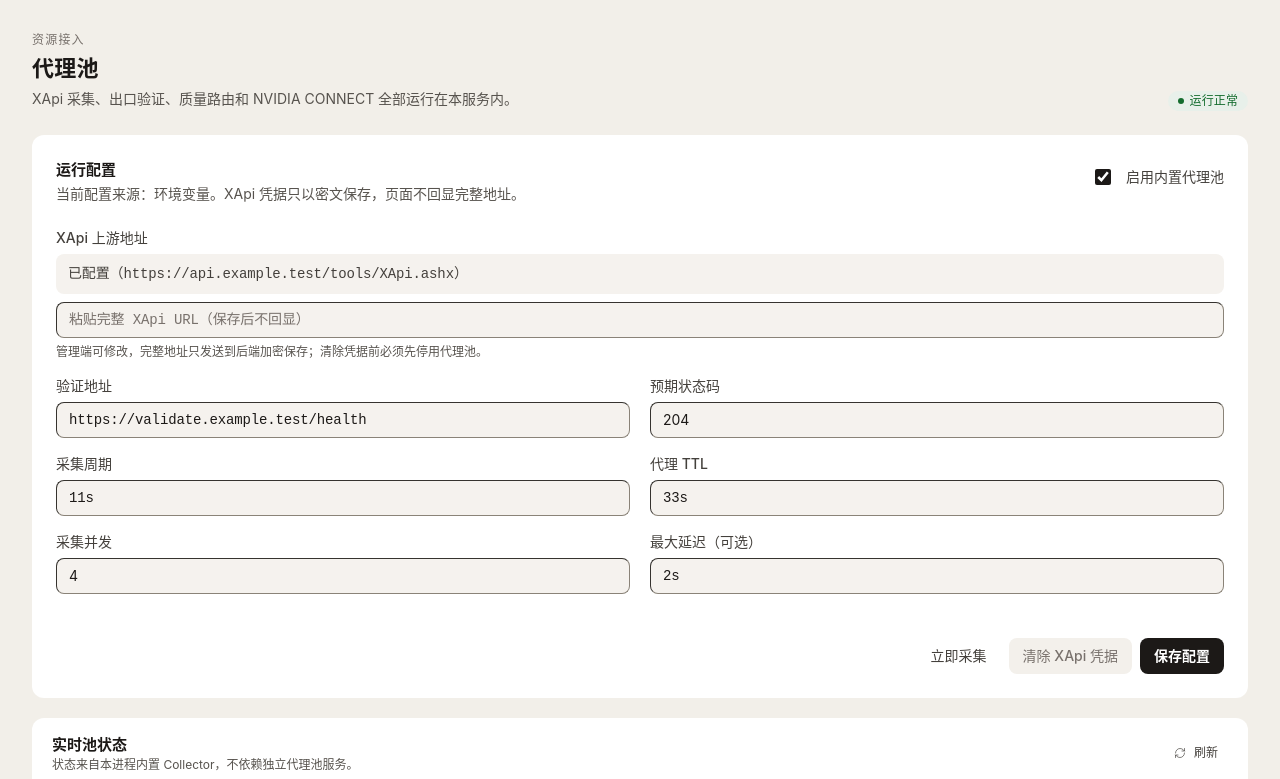
Scenario: ProxyPoolView › runs one immediate collection and refreshes status
Click the button with test id "proxy-refresh-now" at [959, 656], box 917,638 -> 1001,674
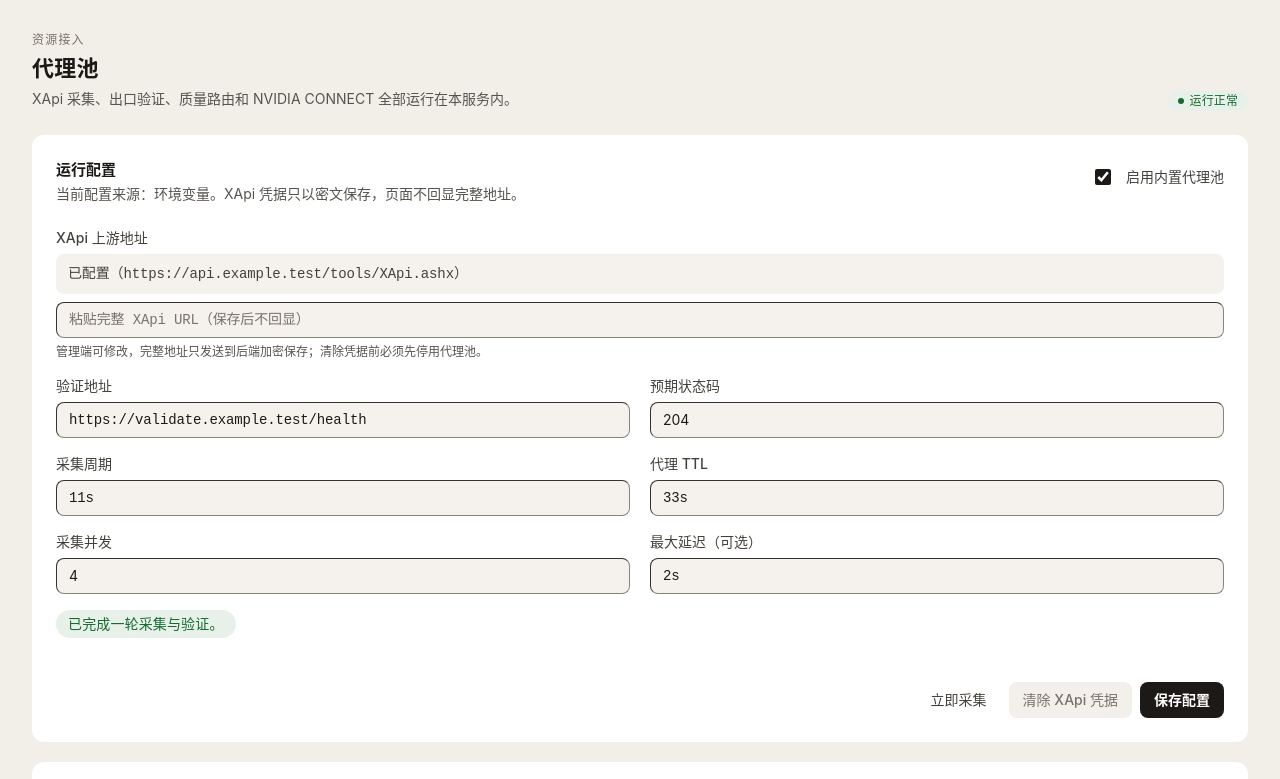
Now the text "已完成一轮采集与验证" is shown, box 68,615 -> 224,632
